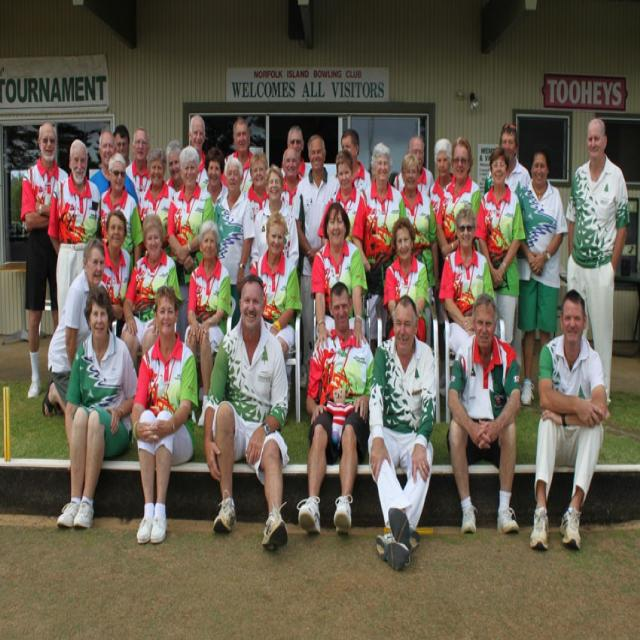body: (201, 269, 289, 554), (54, 281, 142, 533), (528, 287, 608, 554), (296, 278, 376, 540), (366, 293, 440, 575), (564, 116, 630, 422), (128, 284, 200, 546), (446, 290, 522, 536), (516, 147, 570, 407), (288, 131, 342, 391), (20, 120, 70, 400), (41, 235, 110, 420), (351, 140, 409, 358), (483, 118, 532, 368), (180, 217, 232, 429), (46, 137, 102, 326), (121, 210, 182, 374), (165, 145, 215, 345), (476, 145, 525, 345), (438, 205, 498, 357), (310, 201, 368, 353), (399, 152, 441, 348), (212, 155, 256, 333), (250, 210, 300, 359), (433, 134, 482, 263), (382, 215, 431, 343), (248, 162, 302, 271), (97, 151, 145, 269), (316, 148, 362, 246), (99, 208, 132, 341), (88, 129, 140, 210), (136, 146, 177, 248), (333, 126, 377, 209), (219, 114, 256, 195), (392, 134, 436, 194), (125, 126, 153, 215), (198, 145, 230, 214), (428, 136, 457, 211), (246, 150, 271, 225), (282, 125, 314, 181), (187, 113, 209, 187), (280, 145, 304, 210), (163, 138, 185, 196), (112, 123, 131, 168)
